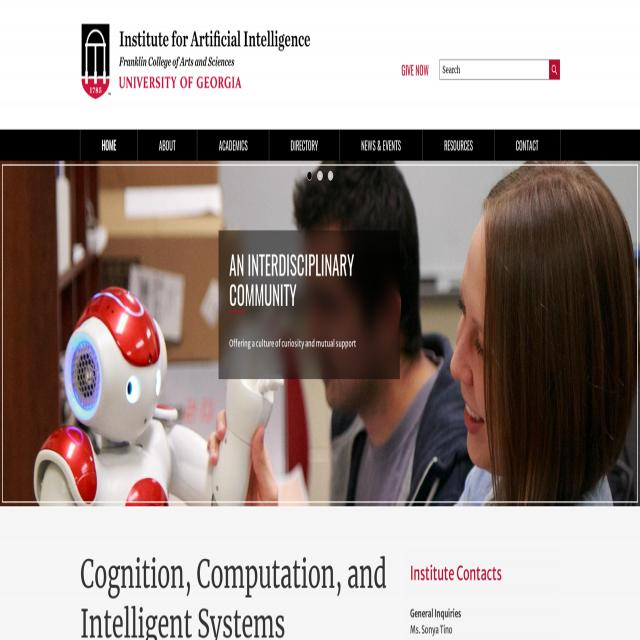button: (2, 166, 638, 504), (80, 22, 313, 102), (340, 130, 422, 161), (197, 130, 269, 161), (422, 130, 494, 161), (269, 130, 339, 161), (494, 130, 560, 161), (137, 129, 197, 161), (80, 130, 137, 161), (549, 60, 559, 80)
field: (439, 60, 549, 80)
